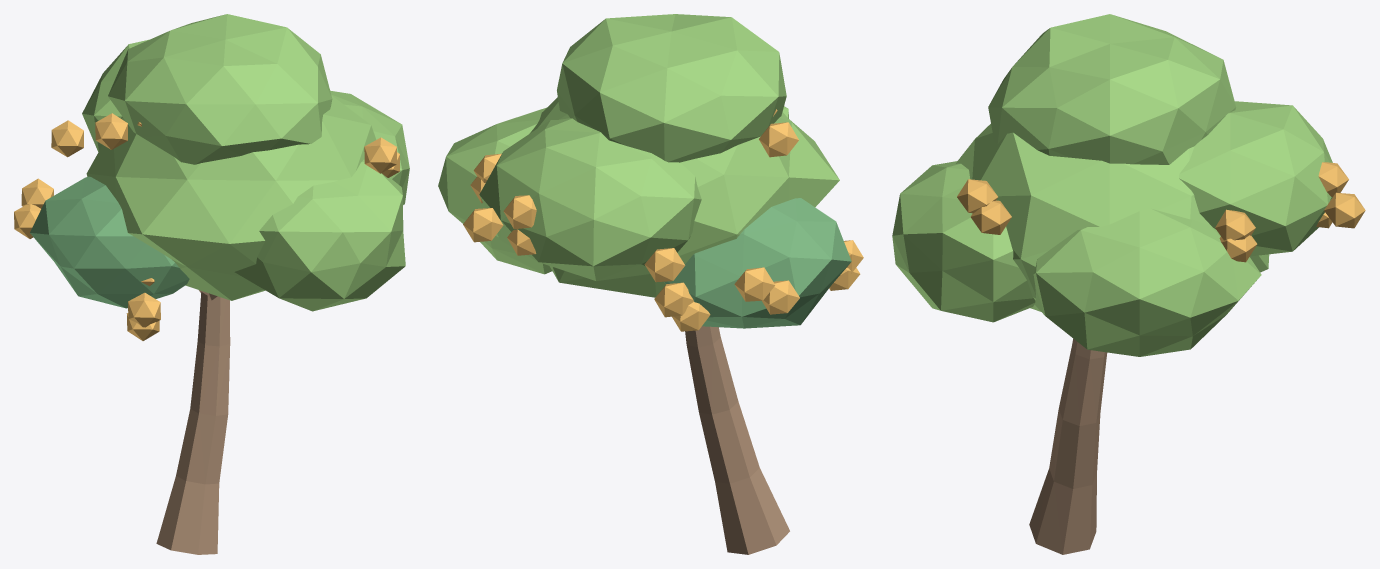
Rendered from laranjeira_3.fbx.
3 views of the same model, side by side, from view 1: azimuth 30°, elevation 25°; view 2: azimuth 150°, elevation 25°; view 3: azimuth 270°, elevation 25° (orthographic). The views are drawn at different scales.
Parts seen in each view (by area): view 1: laranjeira_3~Copa 5@leaf, laranjeira_3~Copa 0@leaf, laranjeira_3~Copa 4@leaf, laranjeira_3~Copa 3@leafdark, laranjeira_3~Tronco@bark, laranjeira_3~Copa 1@leaf, laranjeira_3~Copa 2@leaf, laranjeira_3~Fruta 10@orange, laranjeira_3~Fruta 14@orange, laranjeira_3~Fruta 0@orange, laranjeira_3~Fruta 6@orange, laranjeira_3~Fruta 8@orange (+1 smaller); view 2: laranjeira_3~Copa 5@leaf, laranjeira_3~Copa 2@leaf, laranjeira_3~Copa 3@leafdark, laranjeira_3~Copa 0@leaf, laranjeira_3~Tronco@bark, laranjeira_3~Copa 1@leaf, laranjeira_3~Fruta 14@orange, laranjeira_3~Fruta 8@orange, laranjeira_3~Fruta 16@orange, laranjeira_3~Fruta 10@orange, laranjeira_3~Fruta 3@orange, laranjeira_3~Fruta 9@orange (+2 smaller); view 3: laranjeira_3~Copa 5@leaf, laranjeira_3~Copa 1@leaf, laranjeira_3~Copa 0@leaf, laranjeira_3~Copa 2@leaf, laranjeira_3~Copa 4@leaf, laranjeira_3~Tronco@bark, laranjeira_3~Fruta 16@orange, laranjeira_3~Fruta 1@orange, laranjeira_3~Fruta 0@orange, laranjeira_3~Fruta 11@orange, laranjeira_3~Fruta 15@orange, laranjeira_3~Fruta 12@orange.
Boxes of the visible parts, <box> form: laranjeira_3~Copa 5@leaf: <box>108,14,332,164</box>; laranjeira_3~Copa 0@leaf: <box>86,95,376,300</box>; laranjeira_3~Copa 4@leaf: <box>234,159,405,311</box>; laranjeira_3~Copa 3@leafdark: <box>30,176,189,308</box>; laranjeira_3~Tronco@bark: <box>156,292,230,554</box>; laranjeira_3~Copa 1@leaf: <box>330,90,409,204</box>; laranjeira_3~Copa 2@leaf: <box>82,39,148,151</box>; laranjeira_3~Fruta 10@orange: <box>51,120,83,157</box>; laranjeira_3~Fruta 14@orange: <box>95,113,127,149</box>; laranjeira_3~Fruta 0@orange: <box>364,137,396,173</box>; laranjeira_3~Fruta 6@orange: <box>128,292,160,327</box>; laranjeira_3~Fruta 8@orange: <box>21,178,53,208</box>; laranjeira_3~Copa 5@leaf: <box>557,14,786,162</box>; laranjeira_3~Copa 2@leaf: <box>479,118,701,280</box>; laranjeira_3~Copa 3@leafdark: <box>664,198,851,328</box>; laranjeira_3~Copa 0@leaf: <box>529,97,839,297</box>; laranjeira_3~Tronco@bark: <box>685,326,789,554</box>; laranjeira_3~Copa 1@leaf: <box>438,107,551,274</box>; laranjeira_3~Fruta 14@orange: <box>759,122,798,157</box>; laranjeira_3~Fruta 8@orange: <box>734,267,775,301</box>; laranjeira_3~Fruta 16@orange: <box>463,208,503,242</box>; laranjeira_3~Fruta 10@orange: <box>644,248,685,282</box>; laranjeira_3~Fruta 3@orange: <box>654,282,693,317</box>; laranjeira_3~Fruta 9@orange: <box>762,280,799,314</box>; laranjeira_3~Copa 5@leaf: <box>988,14,1235,164</box>; laranjeira_3~Copa 1@leaf: <box>1033,208,1261,356</box>; laranjeira_3~Copa 0@leaf: <box>956,124,1269,311</box>; laranjeira_3~Copa 2@leaf: <box>1179,101,1332,256</box>; laranjeira_3~Copa 4@leaf: <box>892,161,1035,322</box>; laranjeira_3~Tronco@bark: <box>1029,338,1107,554</box>; laranjeira_3~Fruta 16@orange: <box>1324,192,1365,228</box>; laranjeira_3~Fruta 1@orange: <box>970,200,1011,234</box>; laranjeira_3~Fruta 0@orange: <box>957,179,997,213</box>; laranjeira_3~Fruta 11@orange: <box>1215,209,1255,240</box>; laranjeira_3~Fruta 15@orange: <box>1318,162,1348,196</box>; laranjeira_3~Fruta 12@orange: <box>1219,235,1257,262</box>.
Bounding box in the file's own units: 3.2 × 4.2 × 3.4.
